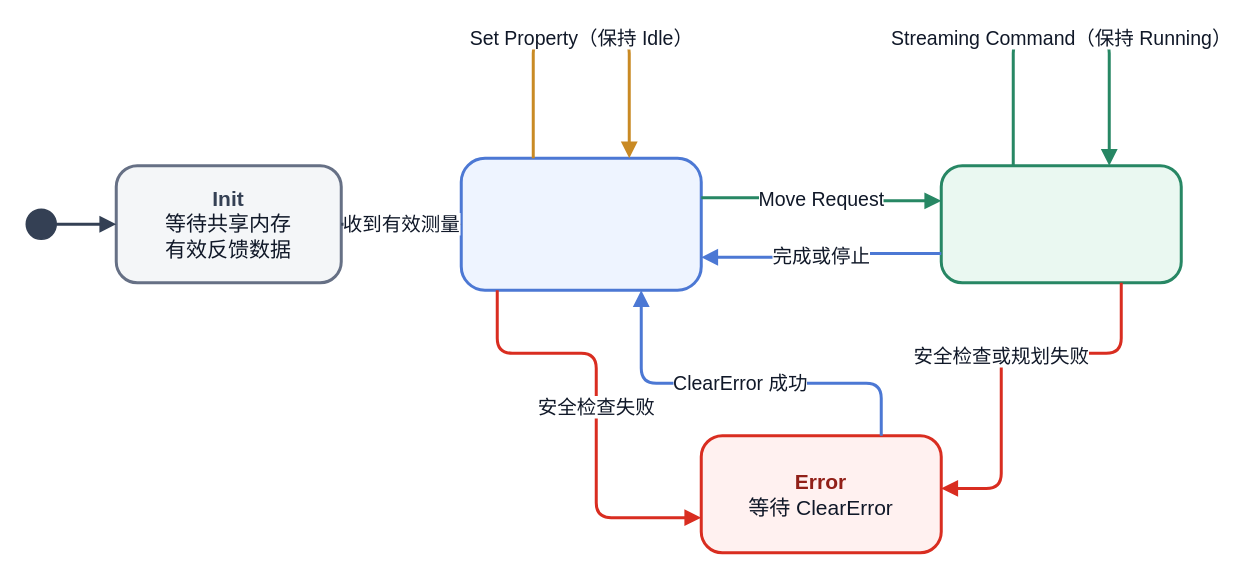
This 1257x579 diagram has some shape labels left out. The shapes that lost their labels are listed below. From the top down, each one's box as (x1, y1, x2, y2) in pixels, then its label:
(459, 156, 702, 291): Idle 位置保持 等待运动请求
(939, 164, 1182, 284): Running 执行当前轨迹
